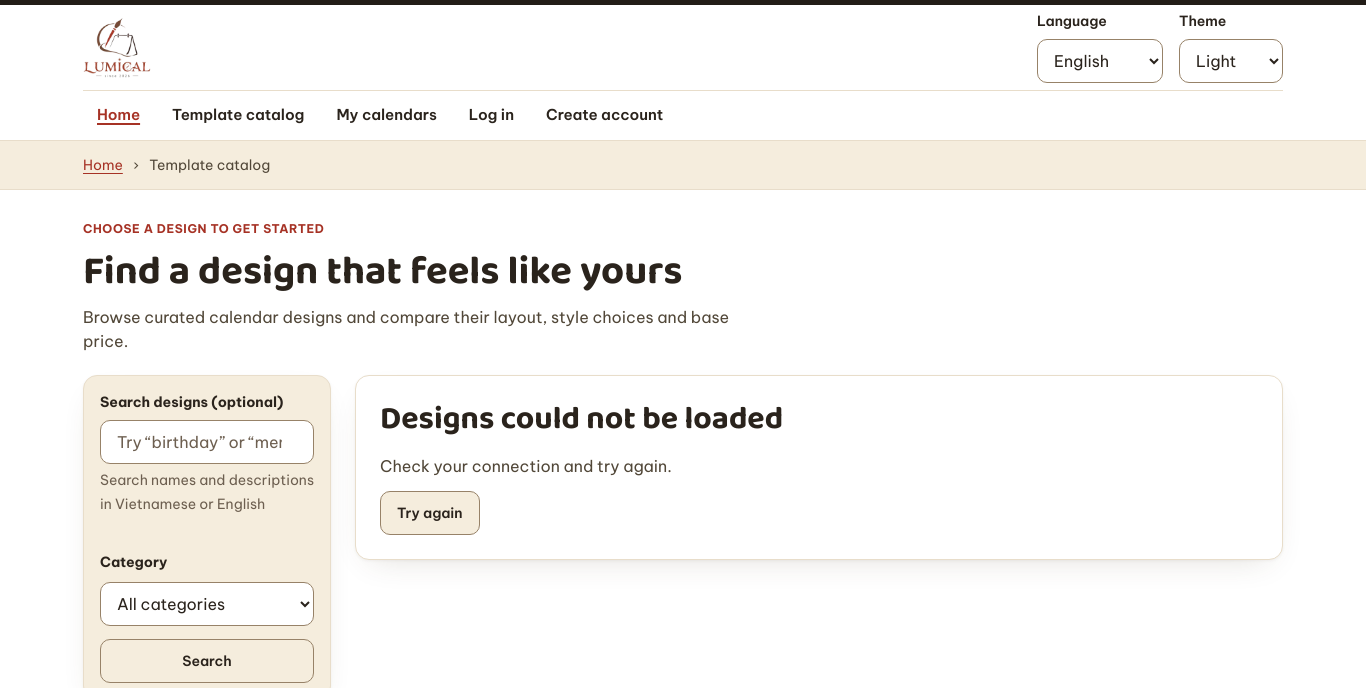
Test case: public Template catalog and detail screens › shows an initial catalog error with an explicit retry action
Expected: the message shows "Designs could not be loaded", [380,394,783,445]
Click the button "Try again": [430, 513] box [380,491,480,535]
(page scrolled)
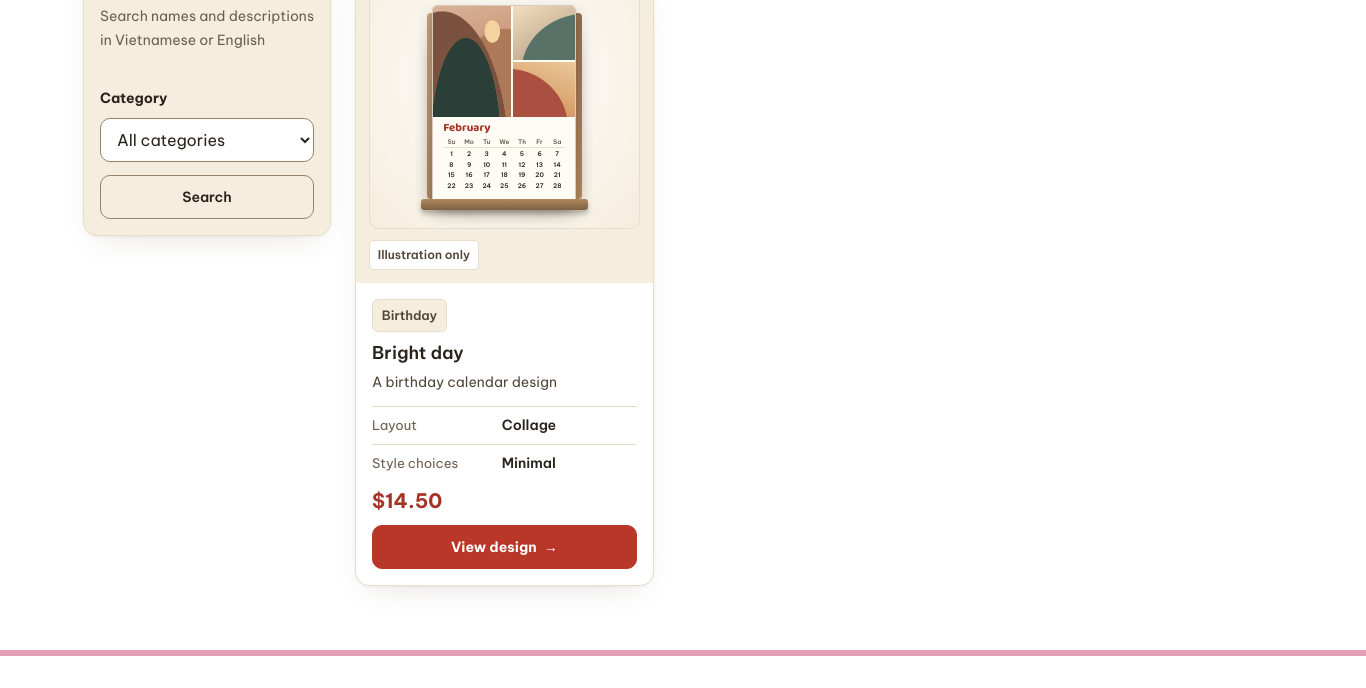
Now the heading "Bright day" is shown, box [372,341,464,365]
